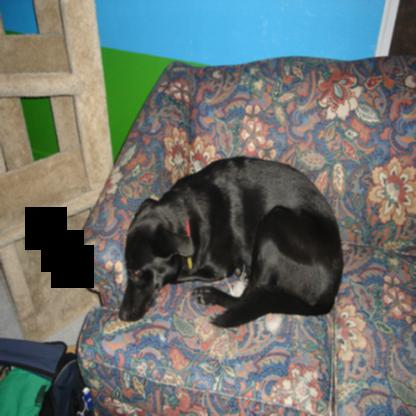suitcase: (0, 339, 96, 416)
